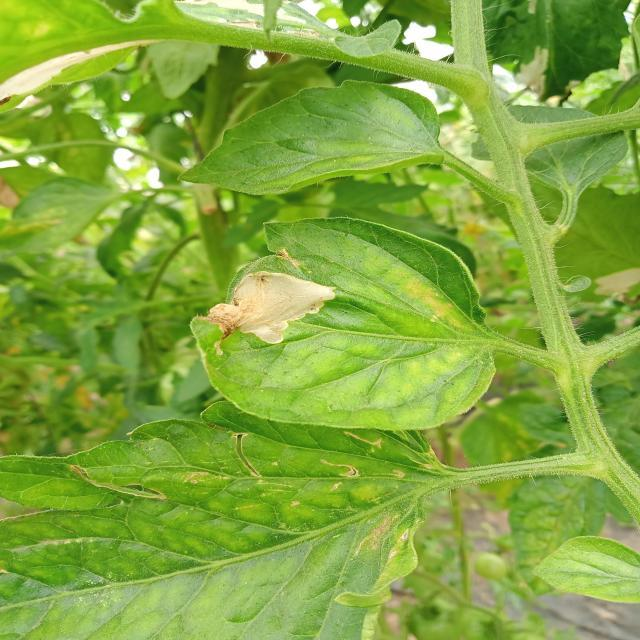Tuta absoluta: (199, 236, 341, 371)
